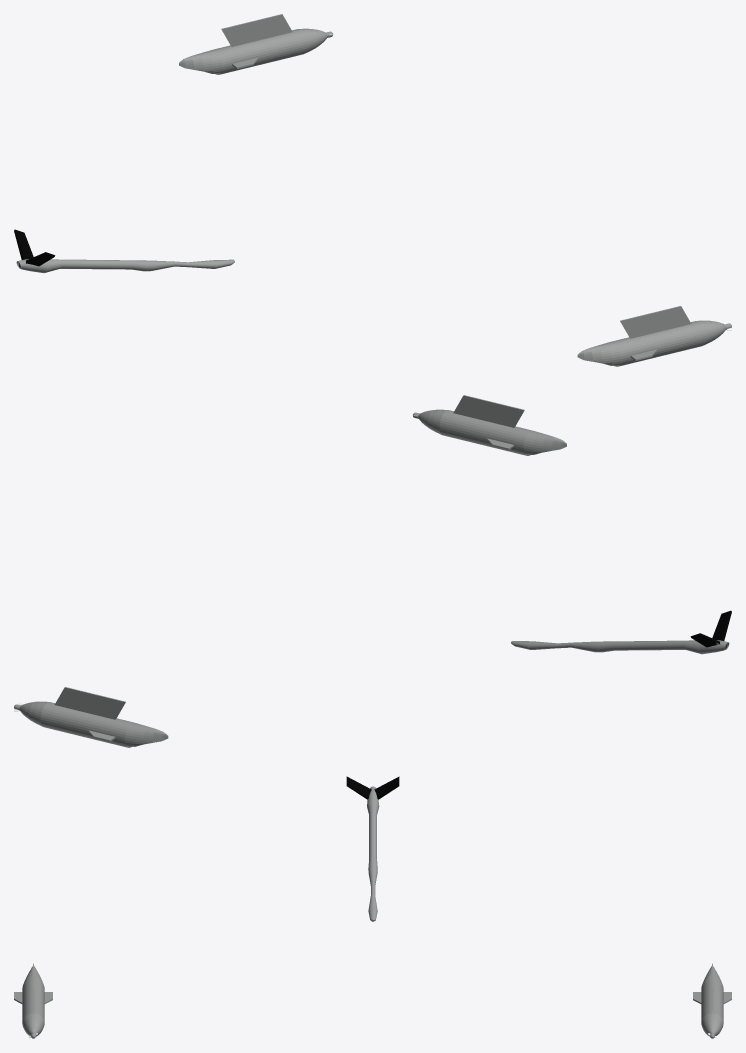
Rendered from mrttbdoff.glb.
The picture shows the model from 3 angles, top to bottom: view 1: azimuth 30°, elevation 25°; view 2: azimuth 150°, elevation 25°; view 3: azimuth 270°, elevation 25°; orthographic projection. The views are drawn at different scales.
Parts seen in each view (by area): view 1: 立方体.003, 立方体, boom.002; view 2: 立方体, 立方体.003, boom.002; view 3: 立方体, 立方体.003, boom.002.
Boxes of the visible parts, left/top/right/bottom form: 立方体.003: left=577, top=306, right=731, bottom=366; 立方体: left=179, top=14, right=333, bottom=74; boom.002: left=14, top=229, right=176, bottom=273; 立方体: left=14, top=687, right=168, bottom=747; 立方体.003: left=412, top=395, right=566, bottom=455; boom.002: left=569, top=610, right=731, bottom=654; 立方体: left=693, top=963, right=731, bottom=1038; 立方体.003: left=14, top=963, right=52, bottom=1038; boom.002: left=346, top=776, right=399, bottom=885.
Size of the model in its own units: 30.9 by 4.21 by 43.88.
8 materials, 1 textured.
